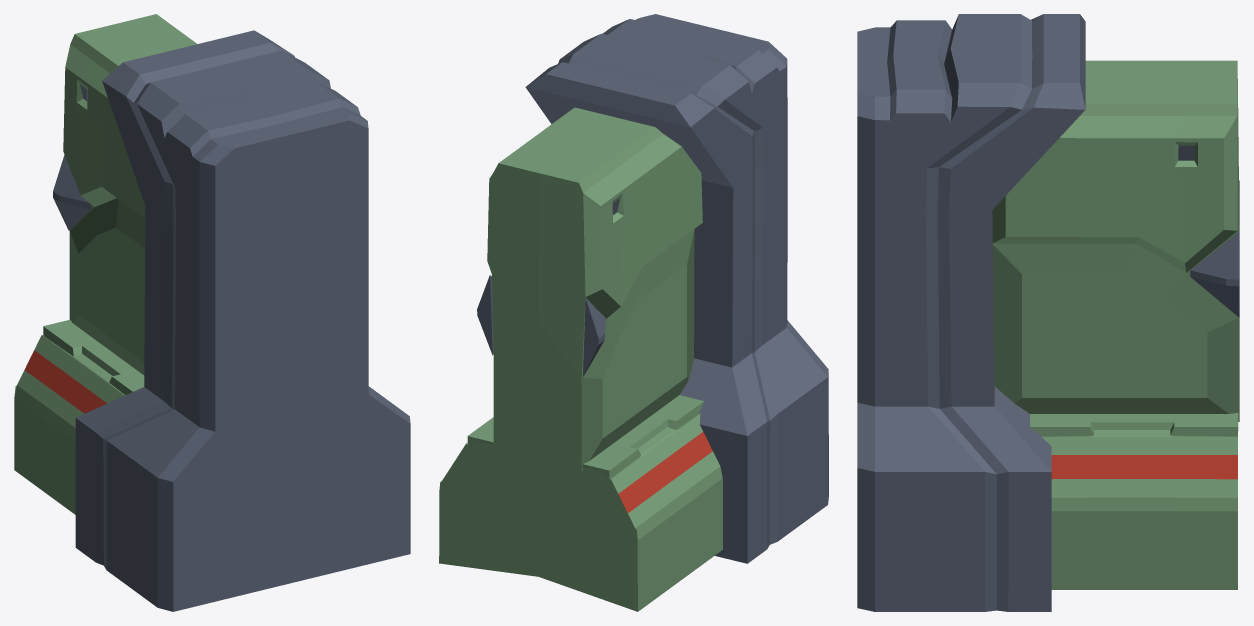
File: corner_w.fbx
3 views of the same model, side by side, from view 1: azimuth 30°, elevation 25°; view 2: azimuth 150°, elevation 25°; view 3: azimuth 270°, elevation 25° (orthographic). The views are drawn at different scales.
Parts seen in each view (by area): view 1: Cube.054; view 2: Cube.054; view 3: Cube.054.
Boxes of the visible parts, bbox=[...] form: Cube.054: bbox=[14, 14, 410, 611]; Cube.054: bbox=[439, 14, 828, 611]; Cube.054: bbox=[857, 14, 1239, 611].
Bounding box in the file's own units: 90.21 × 158 × 110.
